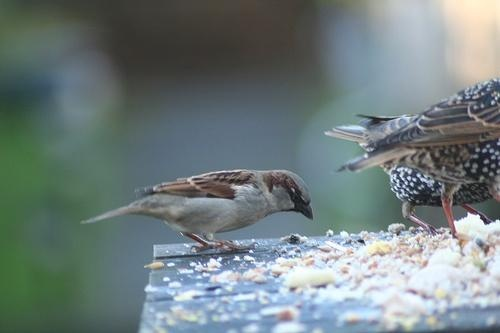bird: (331, 75, 500, 244), (79, 169, 316, 255), (325, 124, 500, 238)
